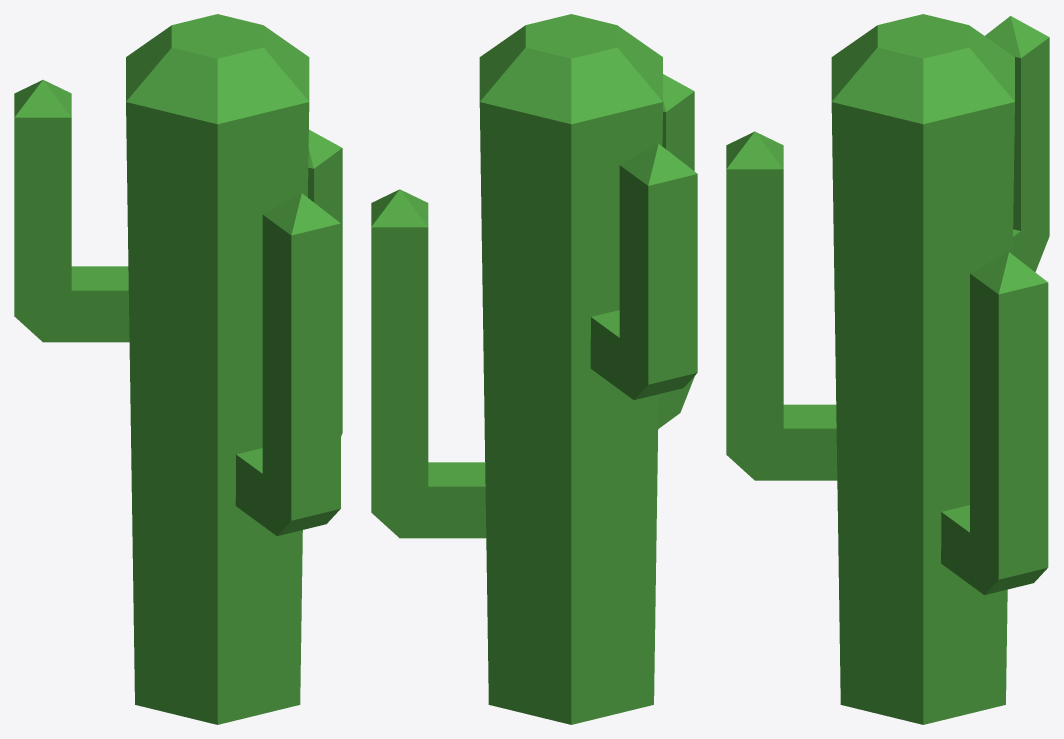
File: cactus_tall.glb
3 renders of one model, left to right at view 1: azimuth 30°, elevation 25°; view 2: azimuth 150°, elevation 25°; view 3: azimuth 270°, elevation 25°, orthographic.
Visible parts, largest first — view 1: cactus_tall; view 2: cactus_tall; view 3: cactus_tall.
Boxes of the visible parts, x1=… form: cactus_tall: x1=14, y1=14, x2=342, y2=724; cactus_tall: x1=371, y1=14, x2=697, y2=724; cactus_tall: x1=726, y1=14, x2=1049, y2=724.
Size of the model in its own units: 0.3962 by 0.75 by 0.3391.
